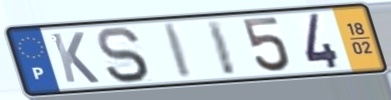4: (302, 12, 342, 72)
5: (239, 15, 293, 74)
I: (203, 18, 240, 78), (160, 22, 195, 81)
K: (48, 30, 103, 85)
S: (94, 25, 152, 85)
